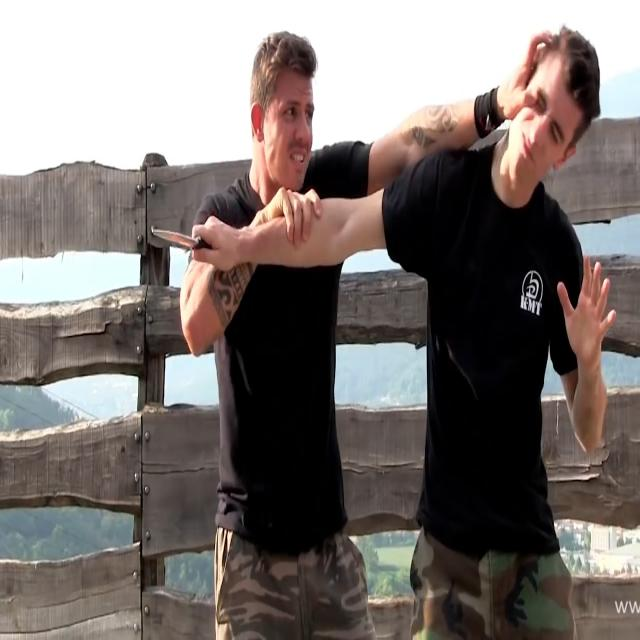knife: (149, 220, 201, 255)
